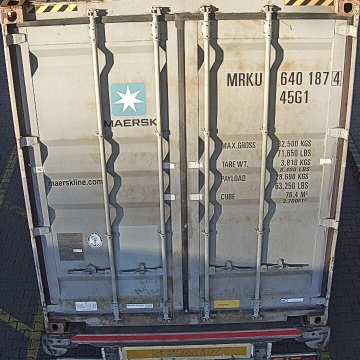serial_id: (227, 71, 342, 85)
